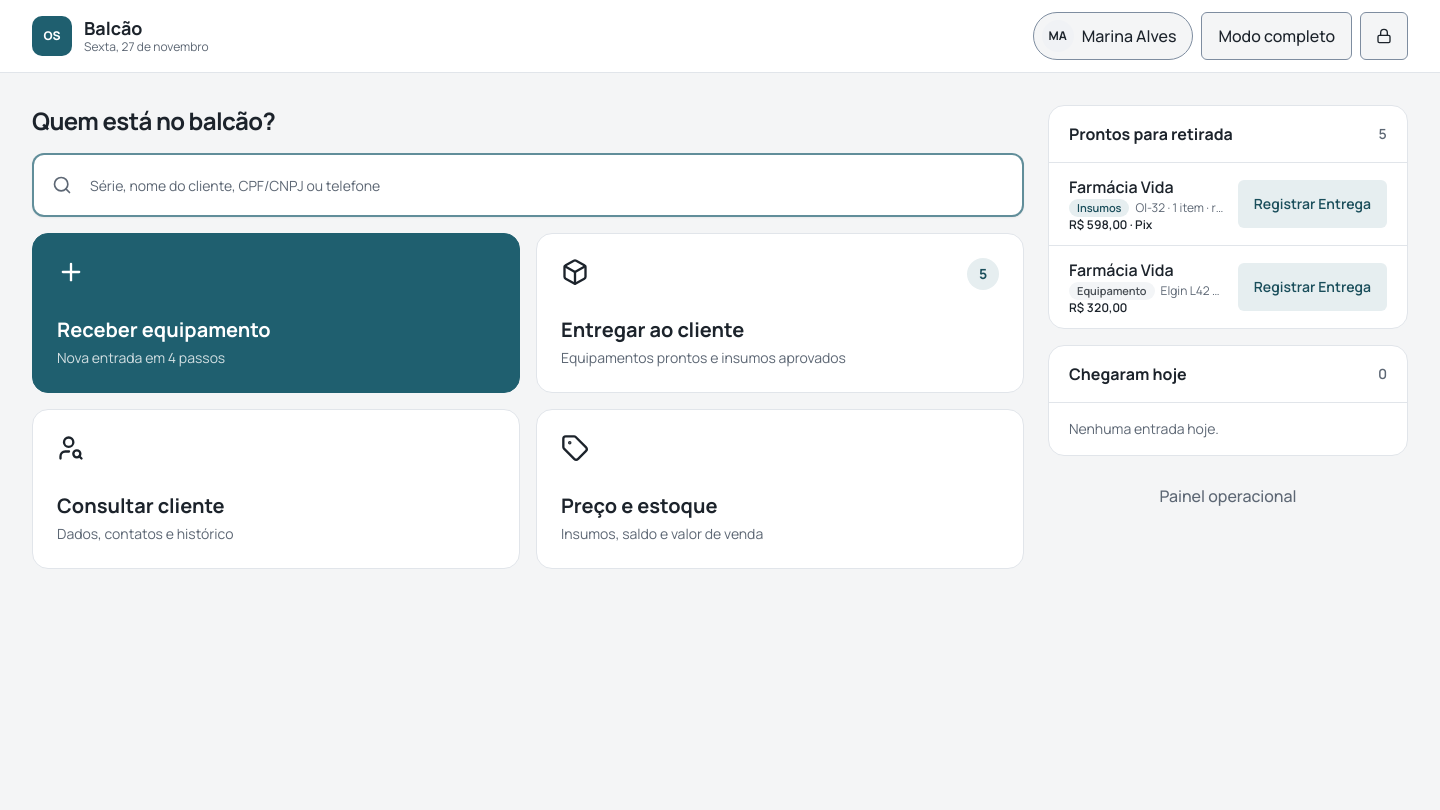
Test: Balcão: entregar venda de insumos (V.7) › PIN negado não entrega
The width and height of the screenshot is (1440, 810).
Click the button "Registrar Entrega" next to "OI-32 · 1 item · ribbon". click: click(1312, 204)
box: [1238,180,1387,228]
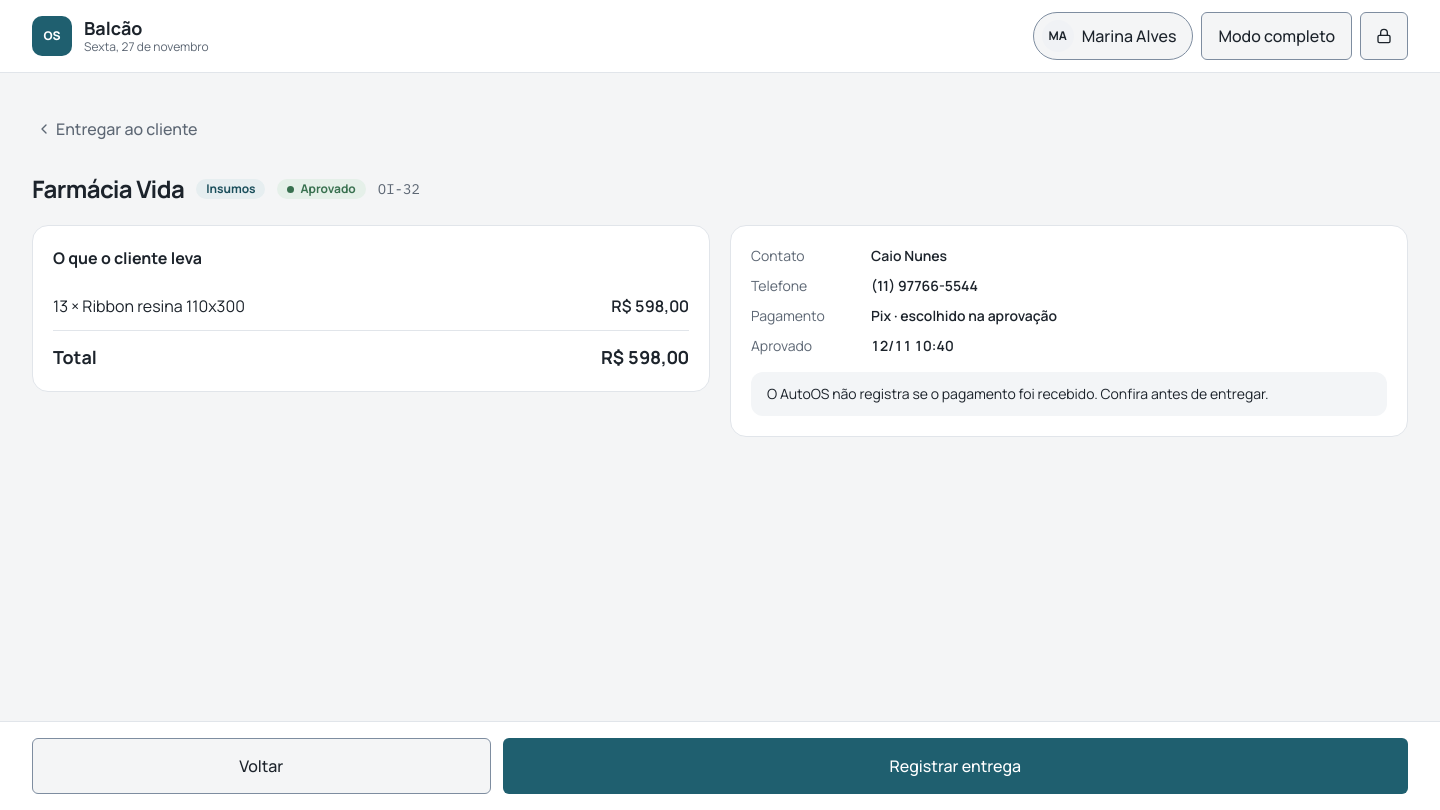
Click the button "Registrar entrega". click: click(955, 766)
box: [503,738,1408,794]
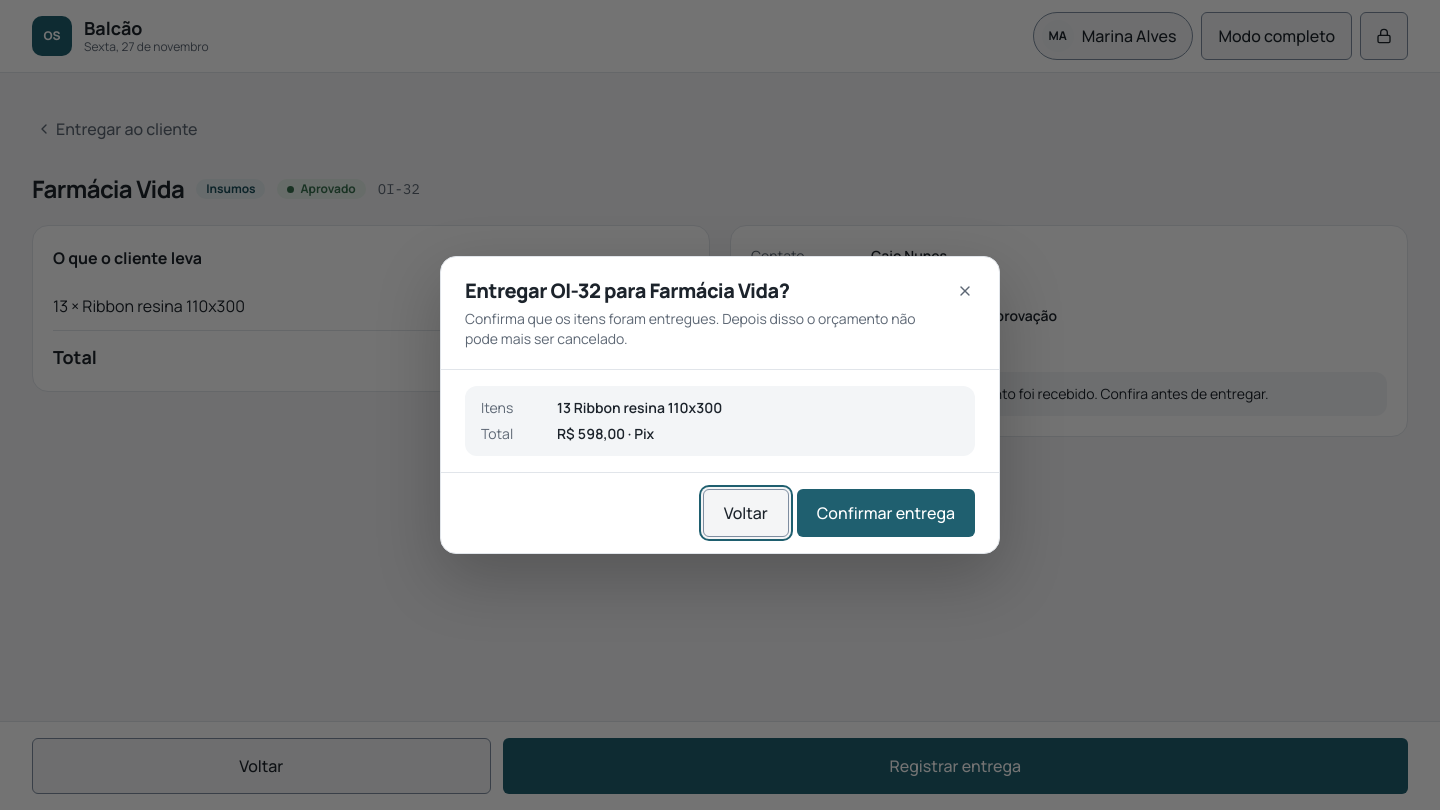
Click the button "Confirmar entrega". click: click(886, 513)
box: [797,489,975,537]
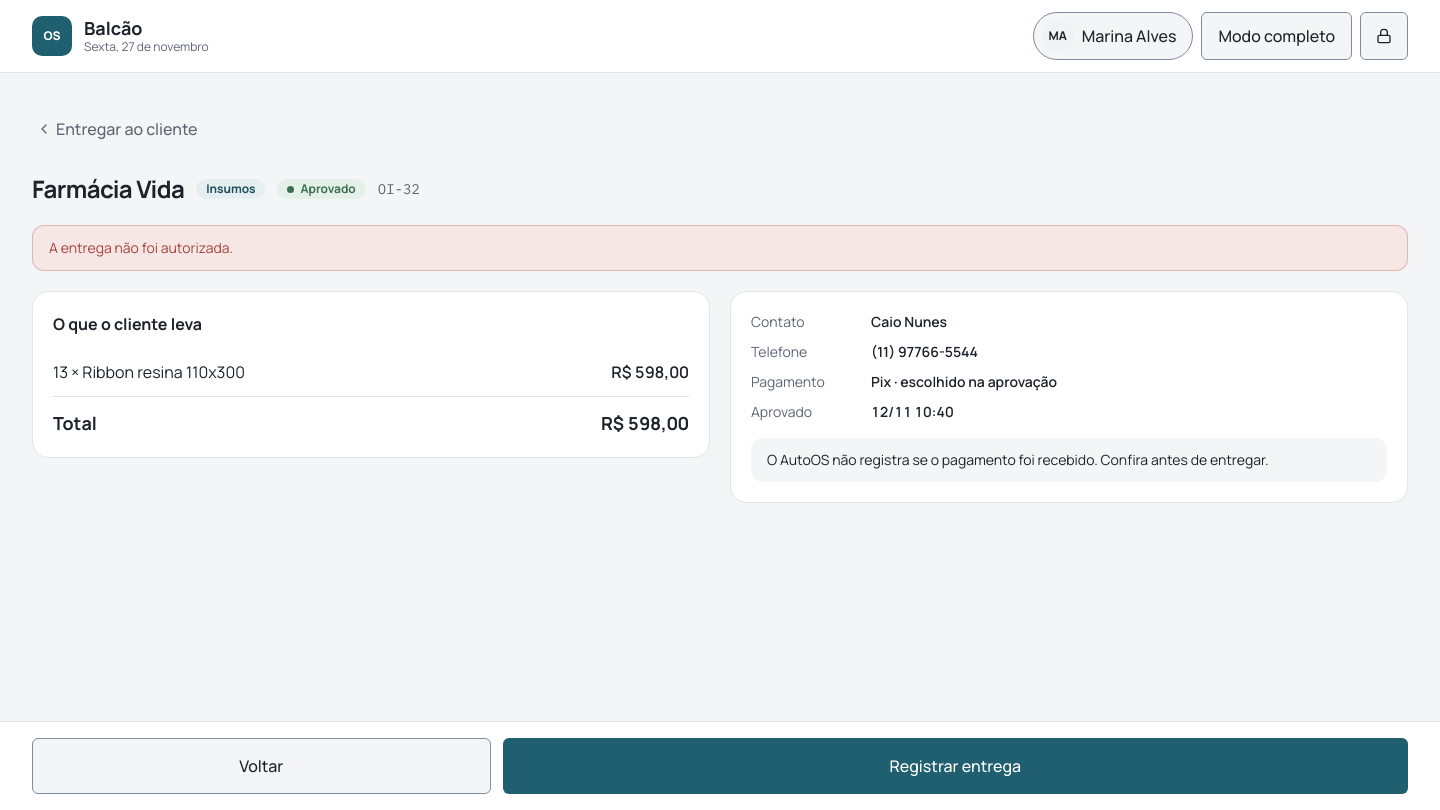
Expected: the text "A entrega não foi autorizada." is shown, [32,225,1408,271]
